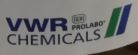VWR: (5, 3, 133, 46)
